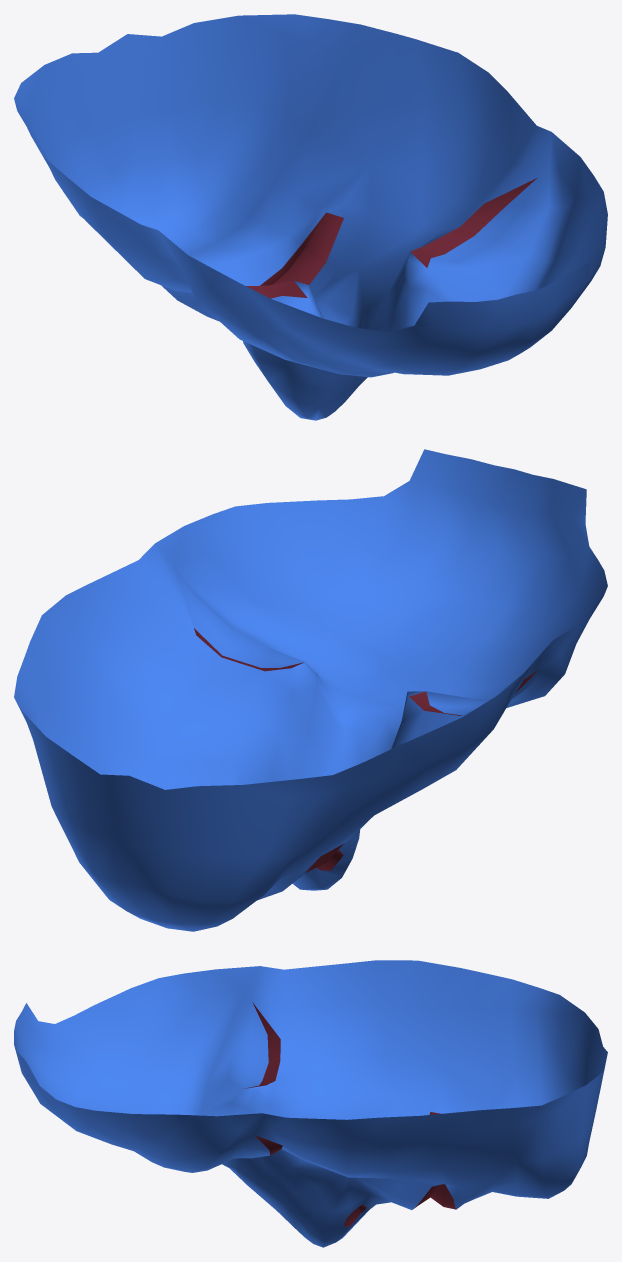
The picture shows the model from 3 angles, top to bottom: view 1: azimuth 30°, elevation 25°; view 2: azimuth 150°, elevation 25°; view 3: azimuth 270°, elevation 25°; orthographic projection. The views are drawn at different scales.
Visible parts, largest first — view 1: face, lips; view 2: face, lips; view 3: face, lips.
Part boxes in pixels (x1,y1,x2,y2): face: (14,14,607,420); lips: (246,178,536,298); face: (14,449,607,931); lips: (194,628,538,872); face: (14,960,607,1247); lips: (245,1002,455,1227).
Size of the model in its own units: 83.36 by 52.67 by 132.
